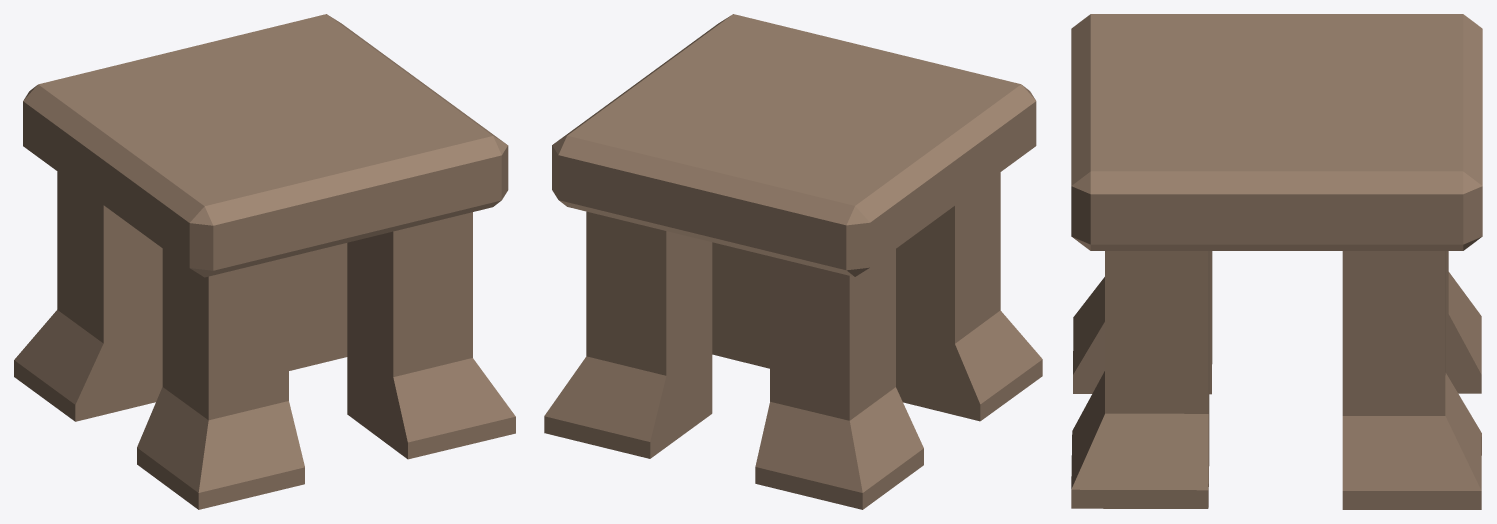
The model's file is w_r_small_table.glb.
3 renders of one model, left to right at view 1: azimuth 30°, elevation 25°; view 2: azimuth 150°, elevation 25°; view 3: azimuth 270°, elevation 25°, orthographic. The views are drawn at different scales.
Visible parts, largest first — view 1: Cube.001; view 2: Cube.001; view 3: Cube.001.
Part boxes in pixels (bbox=[...]): Cube.001: bbox=[14, 14, 515, 509]; Cube.001: bbox=[544, 14, 1042, 509]; Cube.001: bbox=[1071, 14, 1482, 509].
Size of the model in its own units: 1.2 by 1.06 by 1.2.
